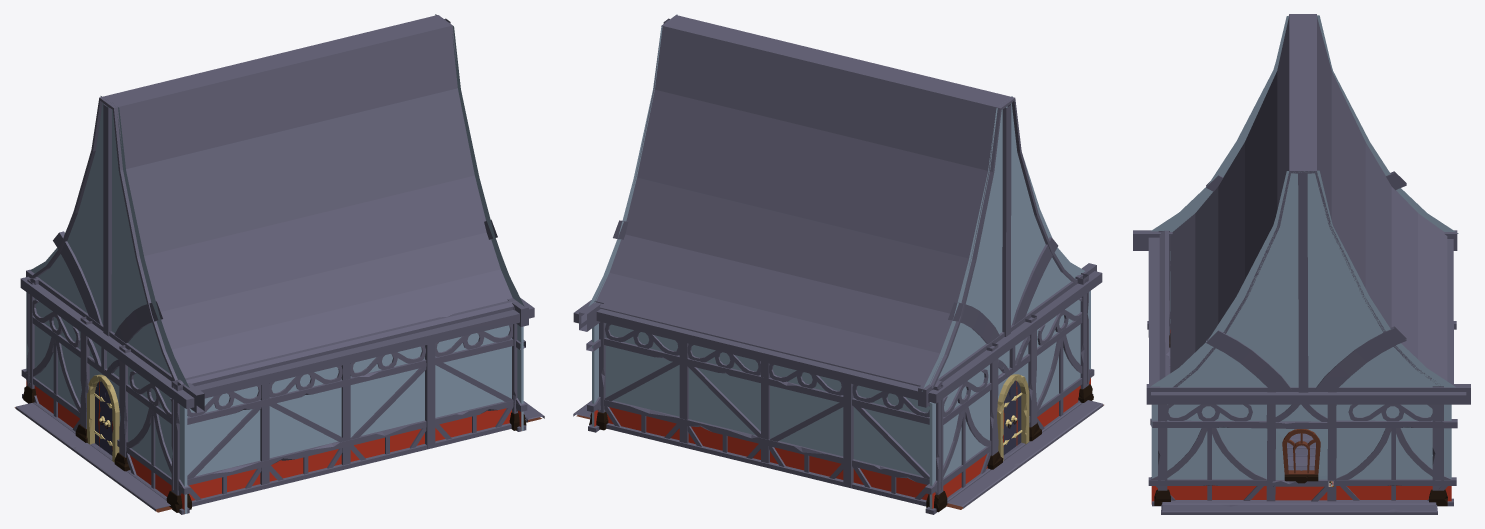
File: SFI_Building1.fbx
3 renders of one model, left to right at view 1: azimuth 30°, elevation 25°; view 2: azimuth 150°, elevation 25°; view 3: azimuth 270°, elevation 25°, orthographic. The views are drawn at different scales.
Parts seen in each view (by area): view 1: SFI_Building1_002; view 2: SFI_Building1_002; view 3: SFI_Building1_002.
Part boxes in pixels (x1=…): SFI_Building1_002: x1=14, y1=14, x2=544, y2=514; SFI_Building1_002: x1=573, y1=14, x2=1103, y2=514; SFI_Building1_002: x1=1133, y1=14, x2=1470, y2=514.
Size of the model in its own units: 1255 by 1094 by 1001.
